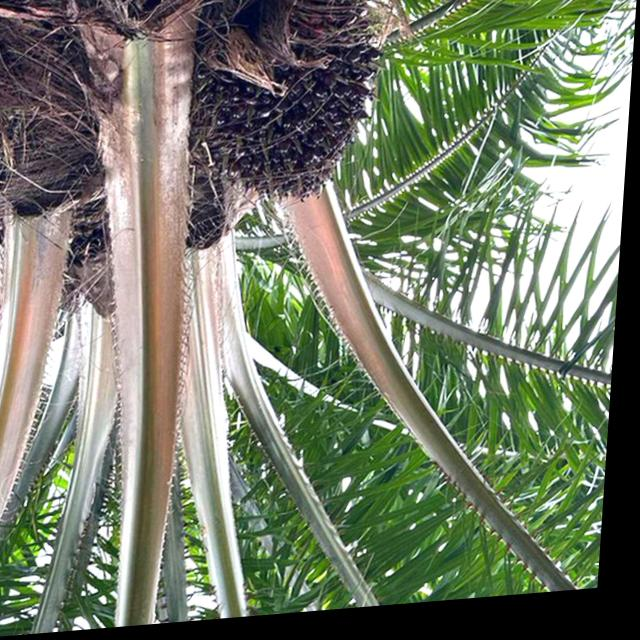almost: (193, 0, 390, 219)
